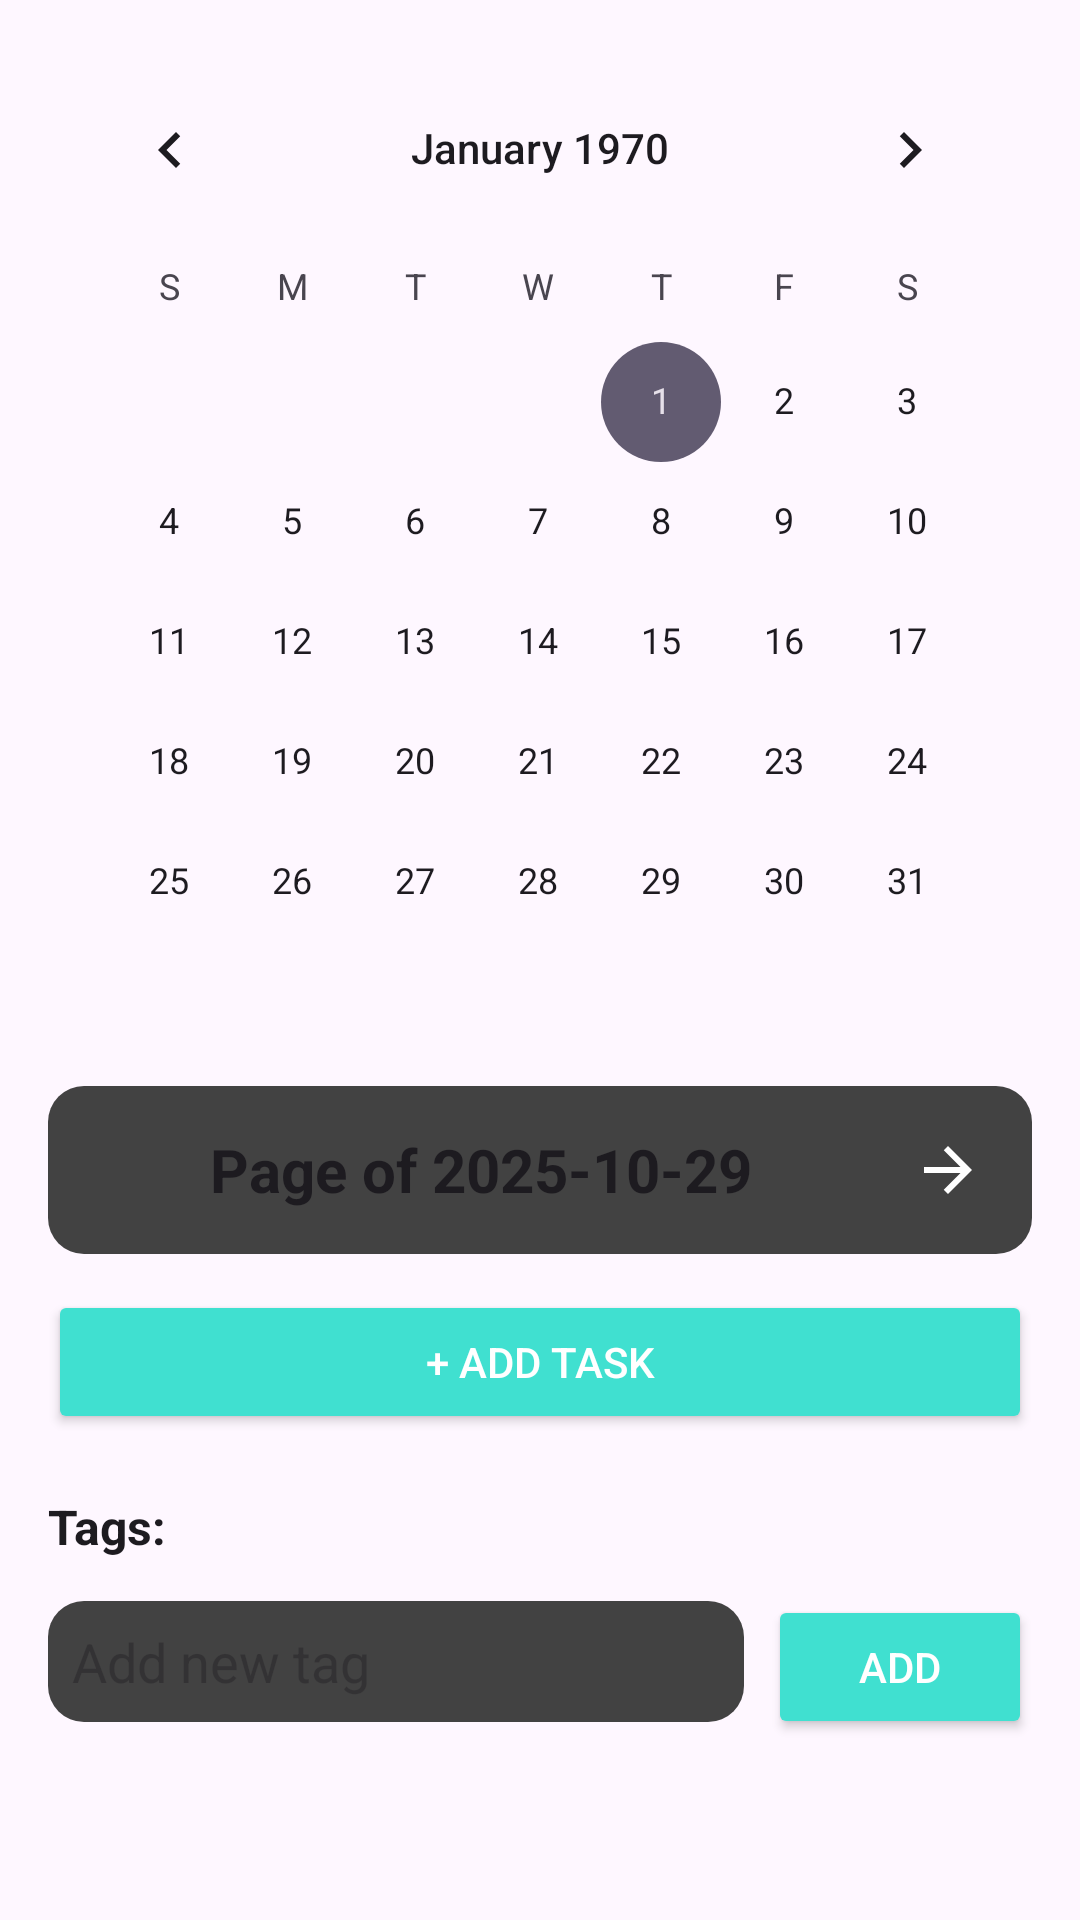

Icons on this 1080w x 1920h Android screen, each with the point to tap as point (x, y):
Next Page: point (948, 1170)
